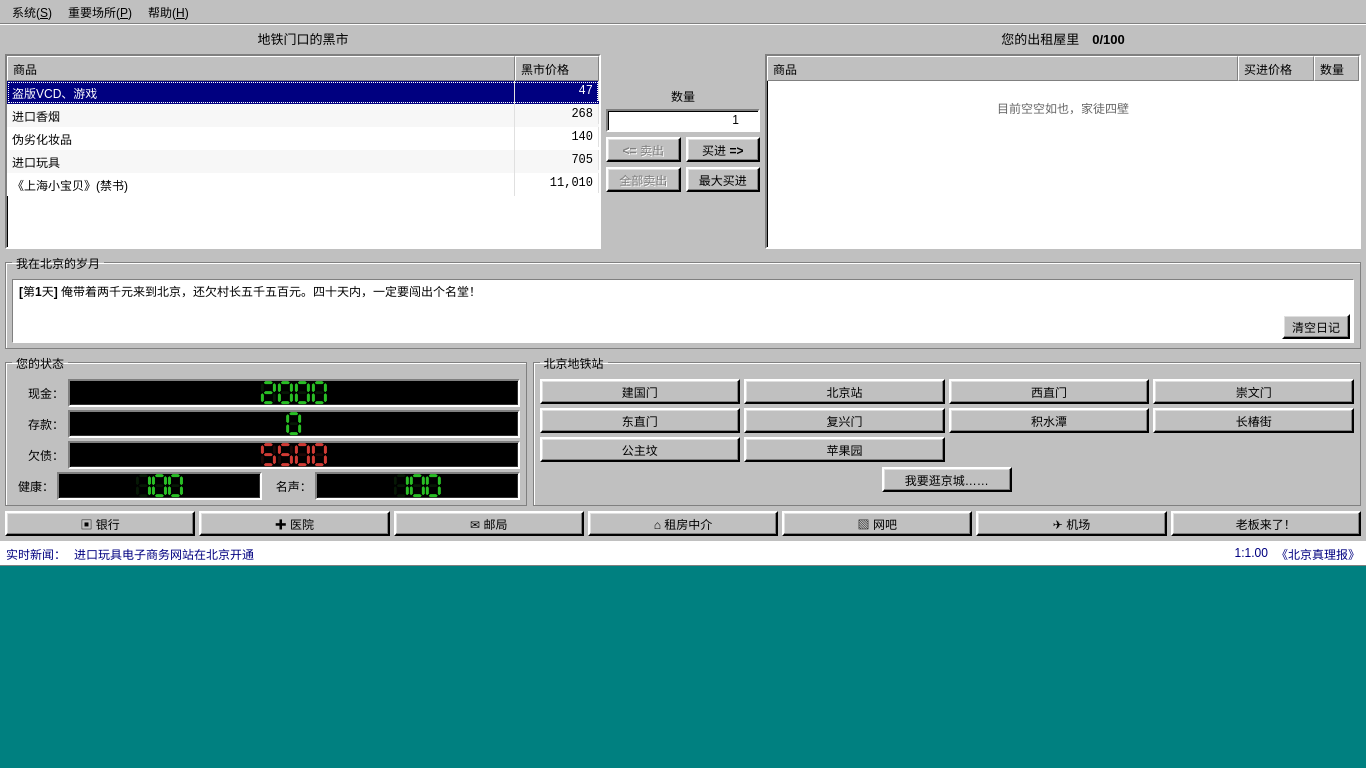
Test: GameWindow airport integration › links the about dialog to this remake repository
Click the button "帮助(H)": (168, 12) [140,1,197,22]
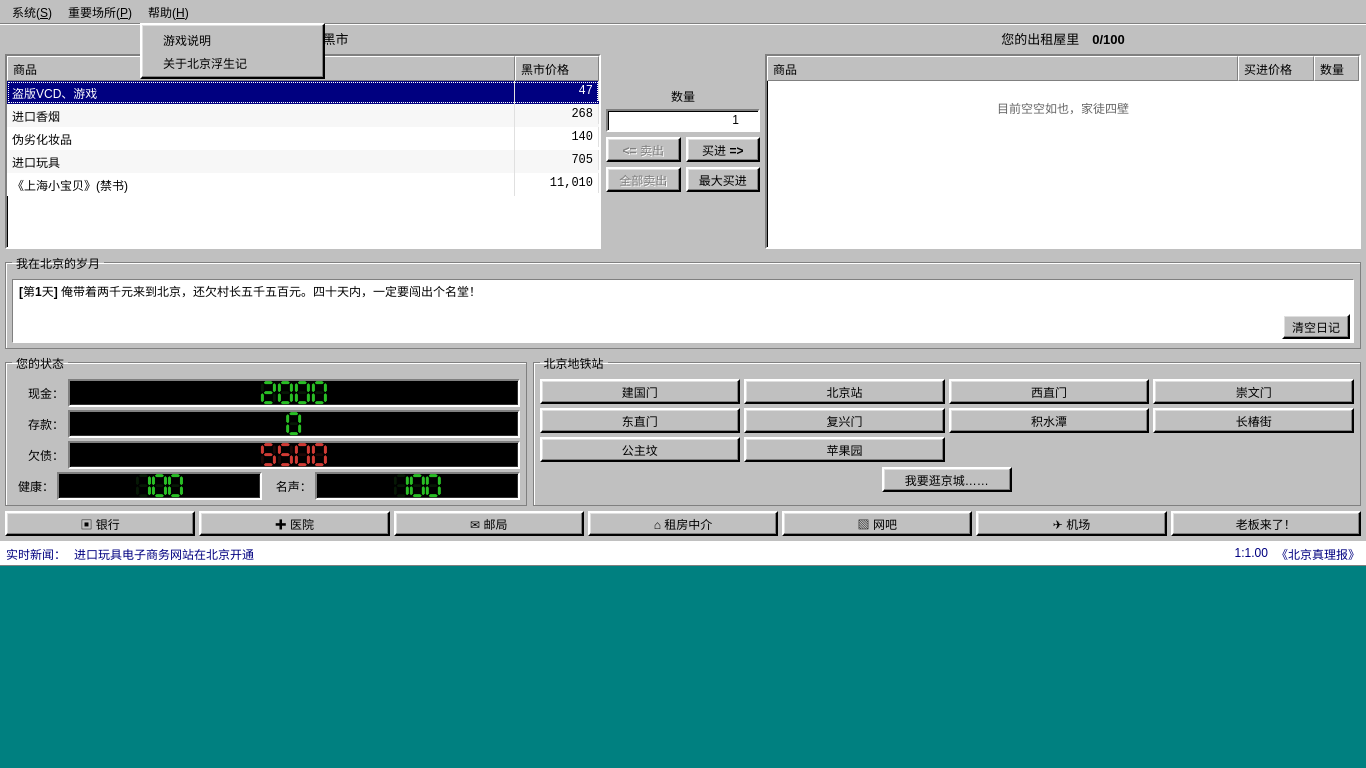
Click the menu item "关于北京浮生记": (232, 62) [145,51,320,74]
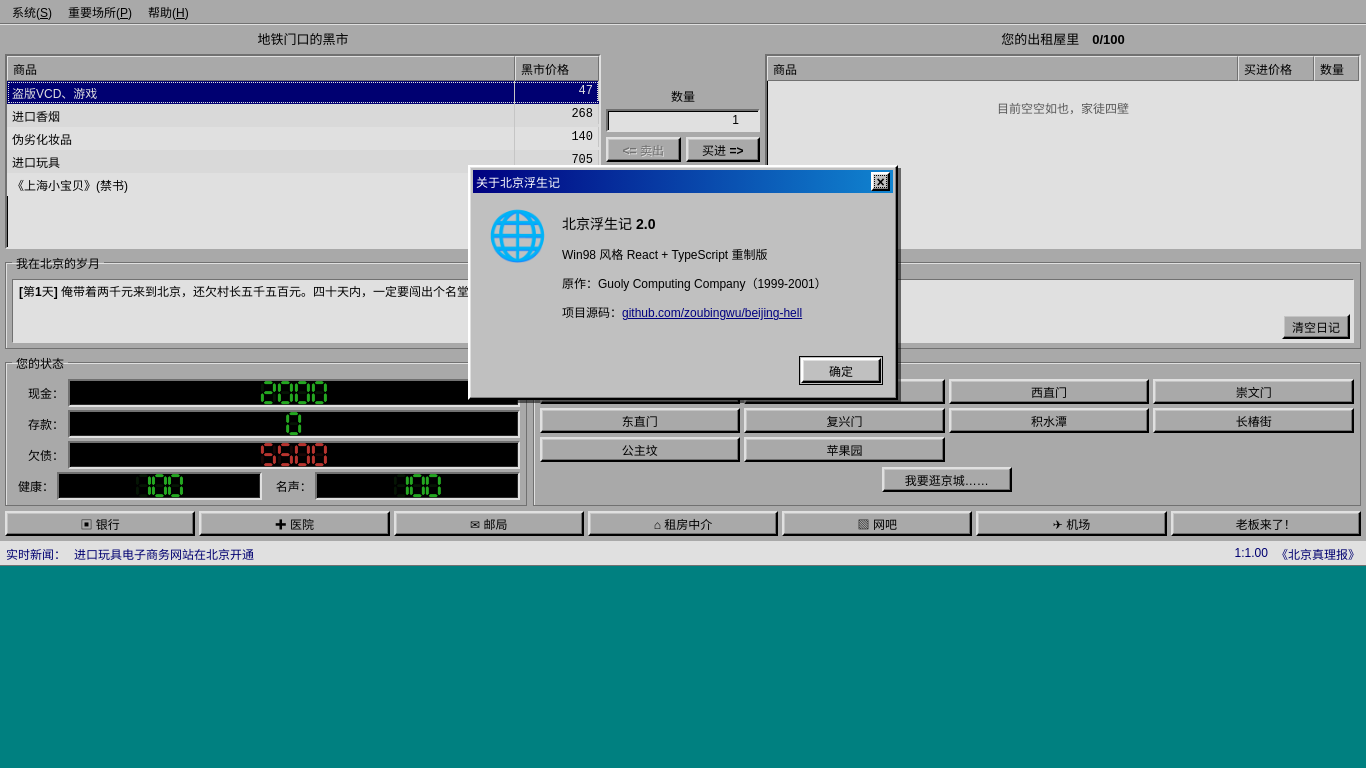
Expected: the link with class "aboutRepoLink" reads "github.com/zoubingwu/beijing-hell", [622,306,802,320]
